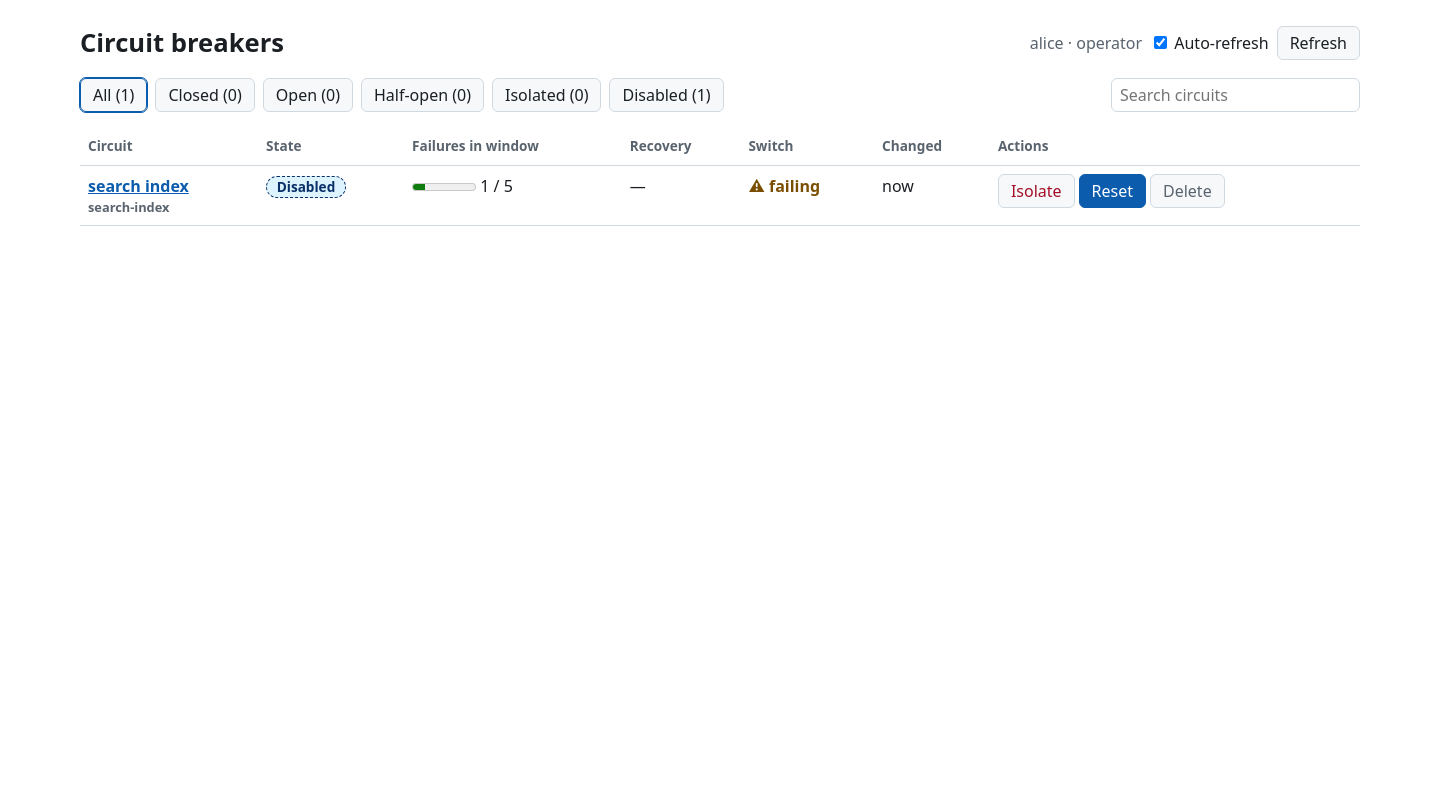
Test: the circuit console › shows history, the last failure and a failing switch in the details
Click the button "search index". click: point(138, 186)
box: [88, 174, 189, 198]
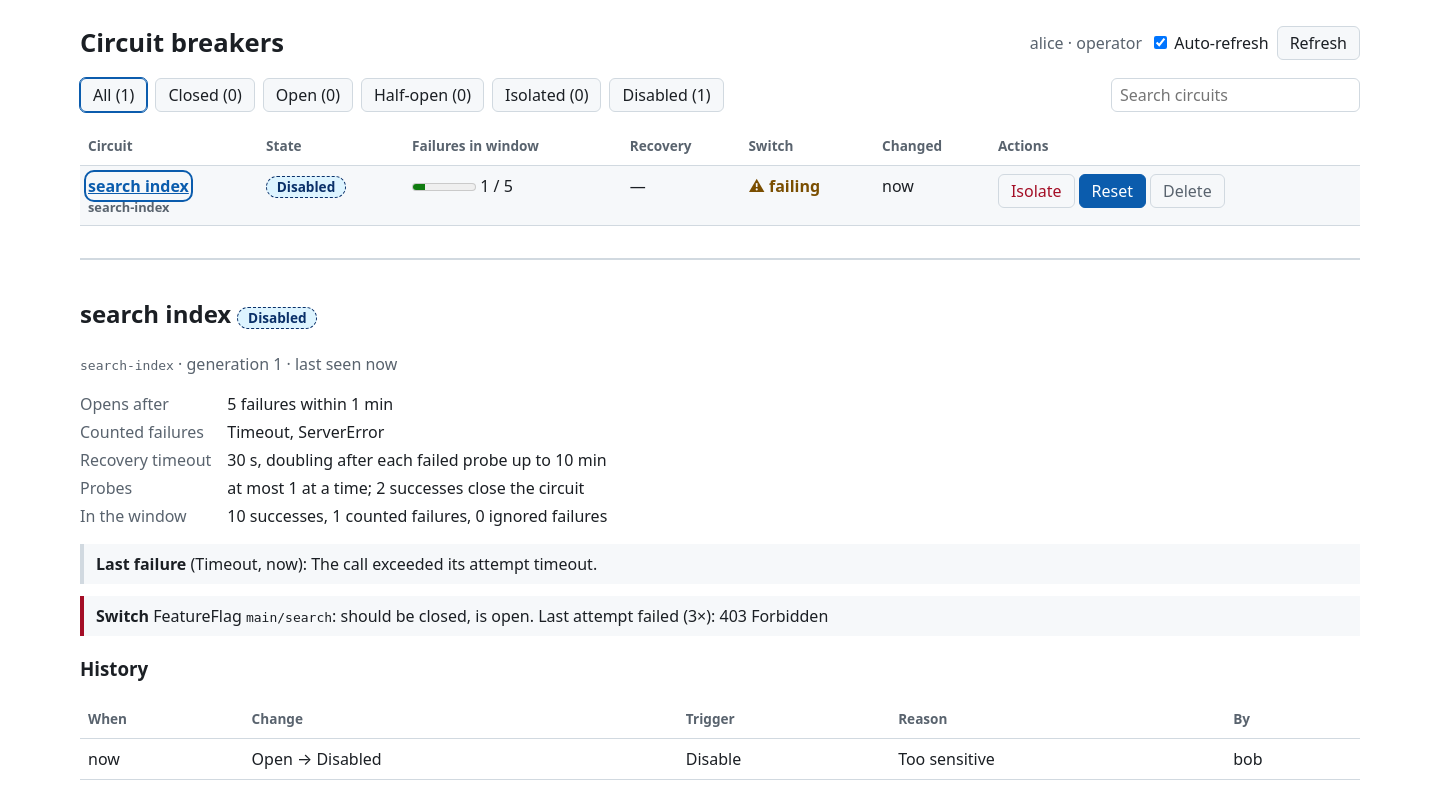
Now the text "The call exceeded its attempt timeout" is shown, box [311, 553, 597, 575]
Now the text "403 Forbidden" is shown, box [720, 605, 828, 627]
Now the cell "Too sensitive" is shown, box [890, 738, 1225, 779]
